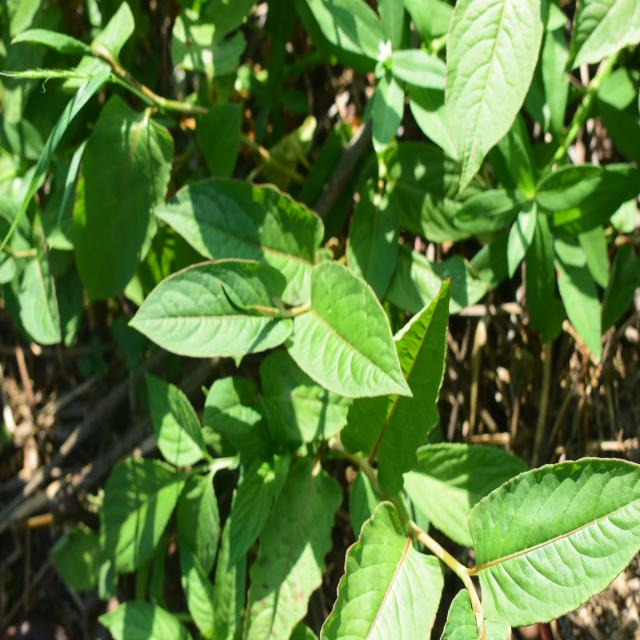Chinese_knotweed: (158, 153, 420, 424), (323, 428, 631, 632)
